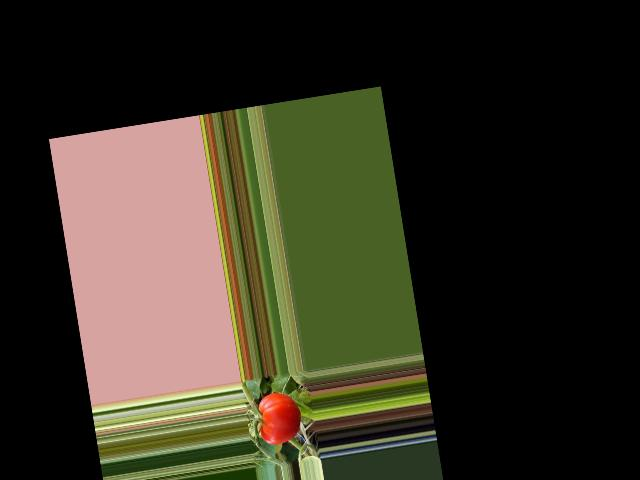tomato: (255, 389, 304, 447)
